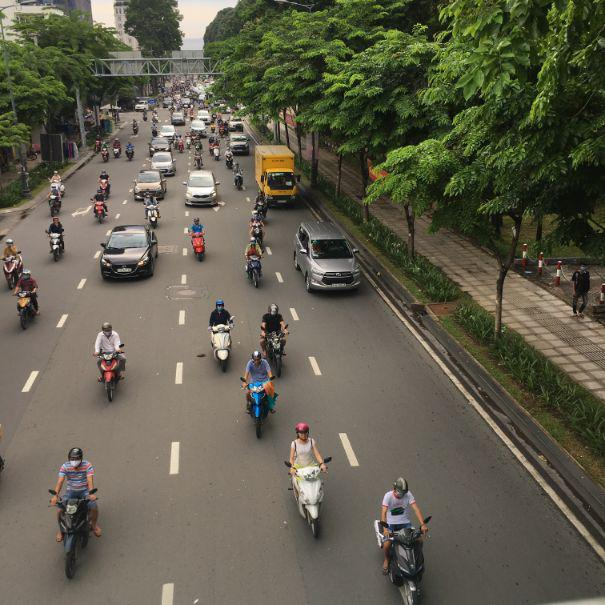car: (293, 222, 361, 295), (97, 225, 159, 281), (184, 169, 221, 209), (134, 172, 166, 202), (150, 151, 176, 174), (229, 134, 253, 157), (150, 140, 170, 155)
motorbike: (53, 487, 101, 580), (381, 517, 431, 605), (288, 466, 326, 541), (246, 379, 279, 438), (98, 352, 128, 403), (261, 327, 287, 376), (211, 325, 234, 374), (16, 292, 41, 331), (245, 248, 264, 288)
truck: (254, 144, 300, 207)
